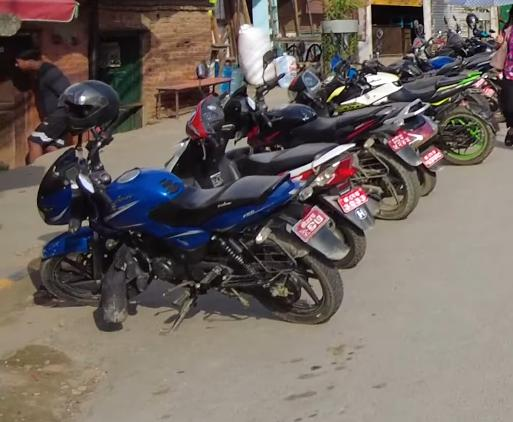bike: (29, 95, 354, 326)
